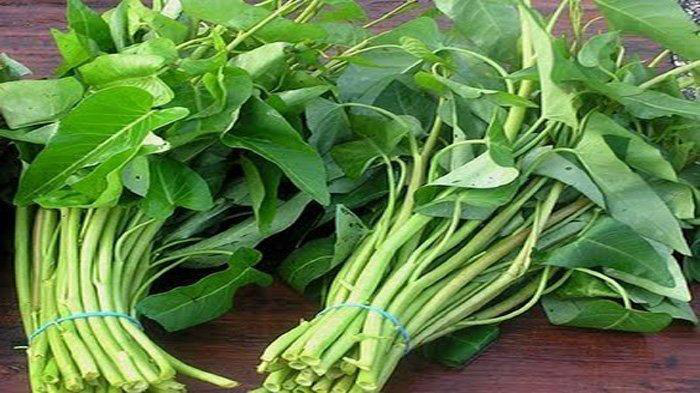Kangkung: (66, 12, 604, 375)
